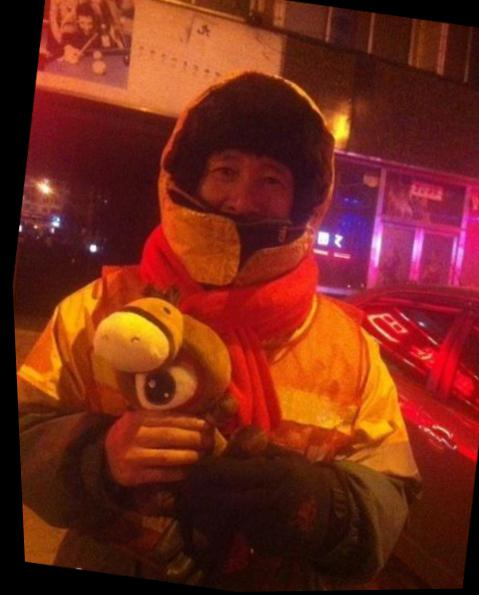WRONG: (177, 132, 309, 251)
